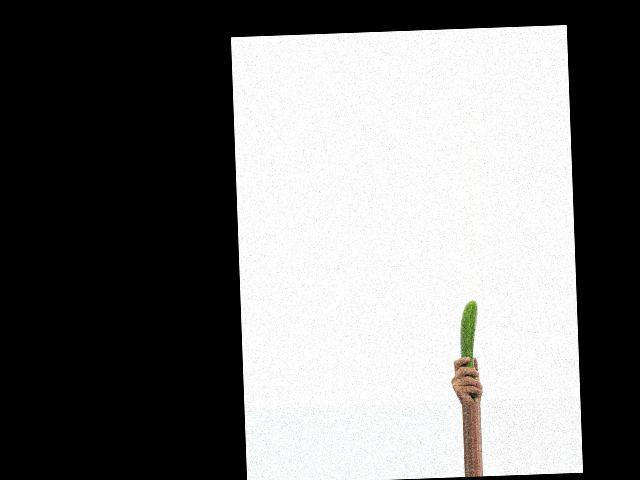cucumber: (458, 299, 481, 402)
